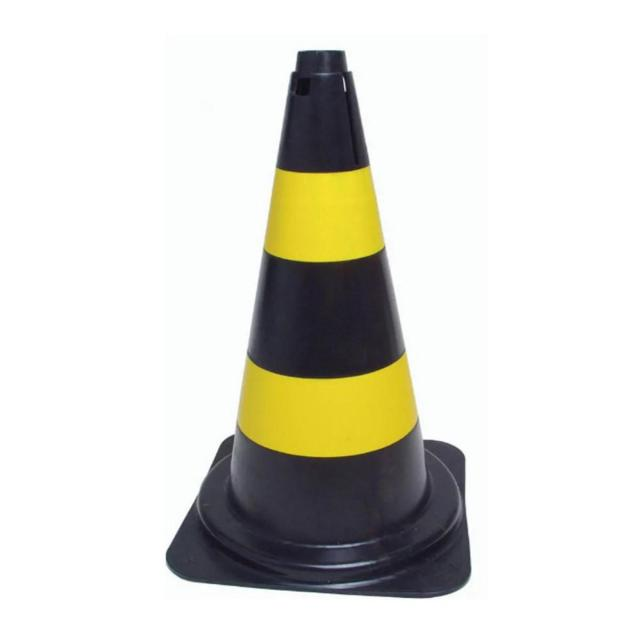cone: (172, 30, 495, 595)
